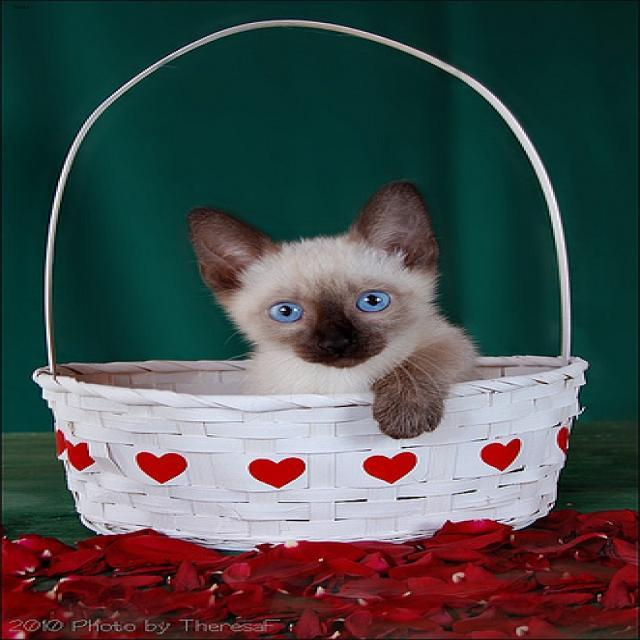Siamese: (186, 179, 435, 366)
